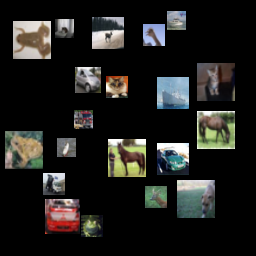airplane: (197, 2, 232, 37), (132, 9, 161, 38), (61, 191, 87, 217), (42, 21, 58, 37), (63, 93, 79, 109)
bird: (166, 176, 188, 198)
cat: (66, 33, 85, 52)
deer: (70, 122, 102, 154), (49, 64, 75, 90), (46, 159, 65, 178)
dog: (205, 130, 243, 168), (101, 4, 127, 30), (139, 211, 155, 227)
frog: (136, 59, 171, 94), (155, 134, 187, 166)
ship: (189, 52, 224, 87), (82, 74, 111, 103)
